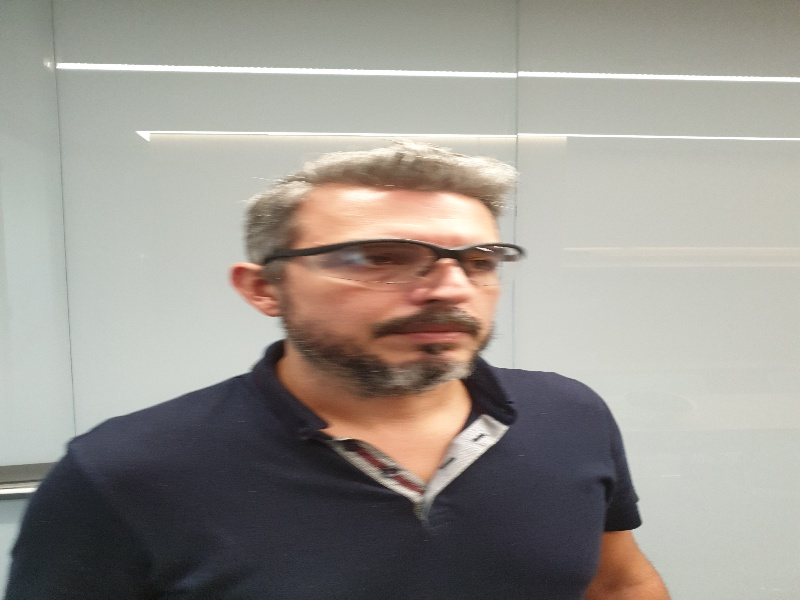Gozluk: (260, 238, 528, 288)
